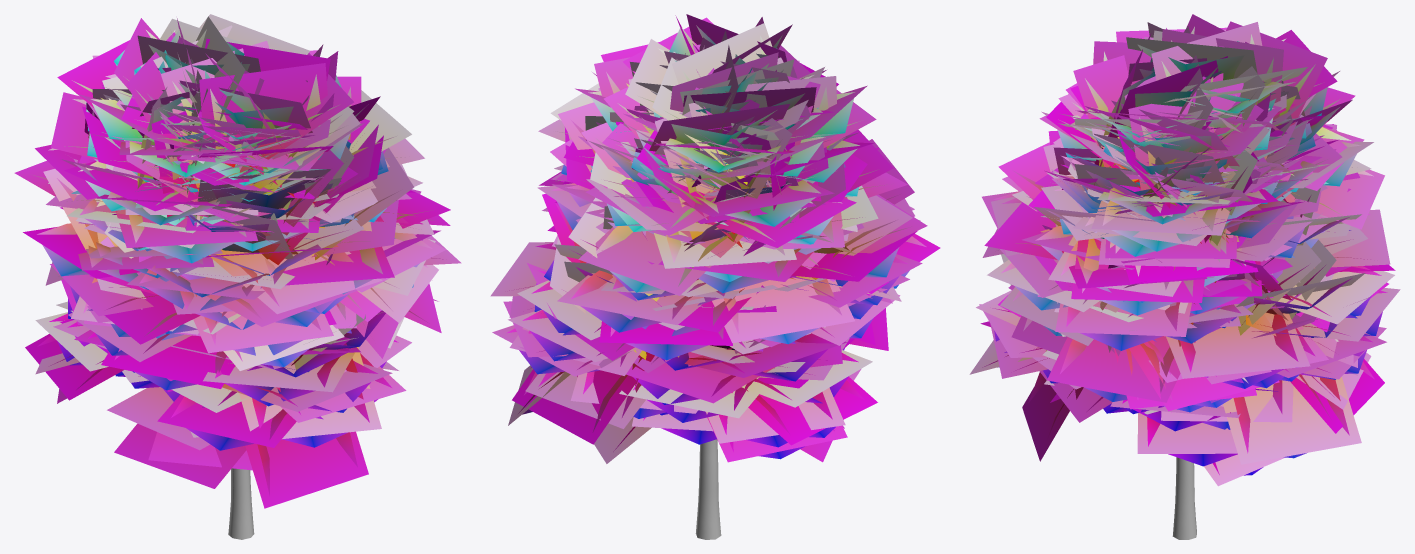
The model's file is oak_03_3.fbx.
3 renders of one model, left to right at view 1: azimuth 30°, elevation 25°; view 2: azimuth 150°, elevation 25°; view 3: azimuth 270°, elevation 25°, orthographic. The views are drawn at different scales.
Visible parts, largest first — view 1: oak_leaves_03_3_shadow, oak_leaves_03_3_lod_0, oak_tree_03_3_lod_0; view 2: oak_leaves_03_3_shadow, oak_leaves_03_3_lod_0, oak_tree_03_3_lod_0; view 3: oak_leaves_03_3_shadow, oak_leaves_03_3_lod_0, oak_tree_03_3_lod_0.
Part boxes in pixels (box(x1,y1,x2,y2)): oak_leaves_03_3_shadow: box(14, 14, 461, 508); oak_leaves_03_3_lod_0: box(31, 29, 443, 496); oak_tree_03_3_lod_0: box(228, 468, 254, 539); oak_leaves_03_3_shadow: box(490, 14, 940, 463); oak_leaves_03_3_lod_0: box(506, 25, 926, 459); oak_tree_03_3_lod_0: box(695, 439, 721, 539); oak_leaves_03_3_shadow: box(969, 14, 1400, 486); oak_leaves_03_3_lod_0: box(982, 26, 1387, 475); oak_tree_03_3_lod_0: box(1172, 457, 1196, 539).
Size of what is drawn, in the model's own units: 12.28 by 15.53 by 12.5.
